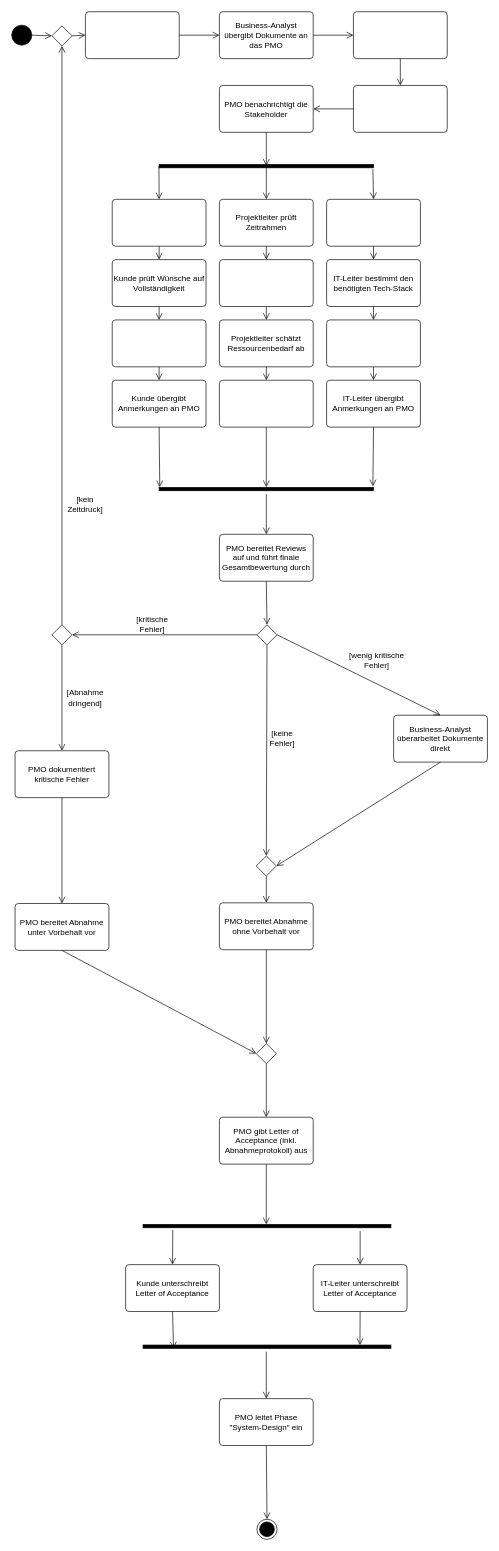
Image size: 499x1551. Some labels were removed from this diagram. The box of each missing label's shape, as (x1, y1, x2, y2) in pixels:
Business-Analyst erstellt Anforderungsspezifikation: (85, 11, 179, 59)
IT-Leiter prüft Betriebsinfrastruktur: (326, 319, 420, 367)
IT-Leiter prüft technische Umsetzbarkeit: (326, 199, 420, 246)
Kunde gleicht Anforderungen mit Geschäftsprozessen ab: (112, 199, 206, 246)
Kunde notiert fehlende oder unklare Punkte: (112, 319, 206, 367)
PMO legt Dokumente auf internem Projekt-Cloud-Tool ab: (353, 85, 447, 132)
PMO verifiziert Dokumente formal durch internes LLM: (353, 11, 447, 59)
Projektleiter prüft Budget: (219, 259, 313, 307)
Projektleiter übergibt Anmerkungen an PMO: (219, 380, 313, 427)
